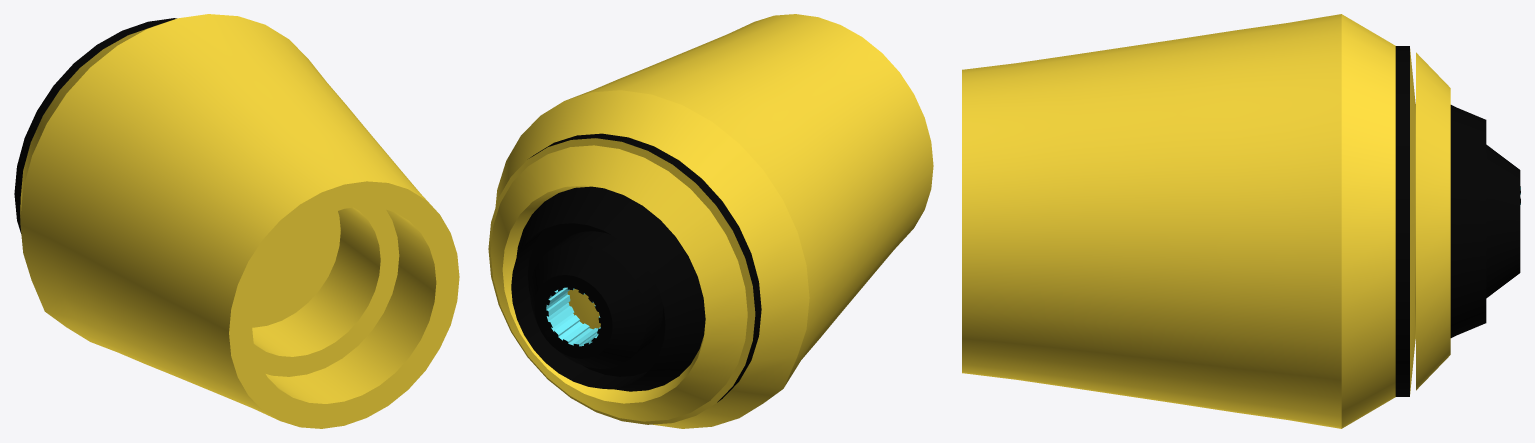
File: CAÑON.glb
The picture shows the model from 3 angles, left to right: view 1: azimuth 30°, elevation 25°; view 2: azimuth 150°, elevation 25°; view 3: azimuth 270°, elevation 25°; orthographic projection. The views are drawn at different scales.
Visible parts, largest first — view 1: Cylinder; view 2: Cylinder; view 3: Cylinder.
Boxes of the visible parts, x1,y1,x2,y2 form: Cylinder: [14, 14, 459, 428]; Cylinder: [488, 14, 933, 428]; Cylinder: [962, 14, 1520, 428].
Bounding box in the file's own units: 1.92 × 1.92 × 2.58.
Materials: 1 (1 with a texture image).
